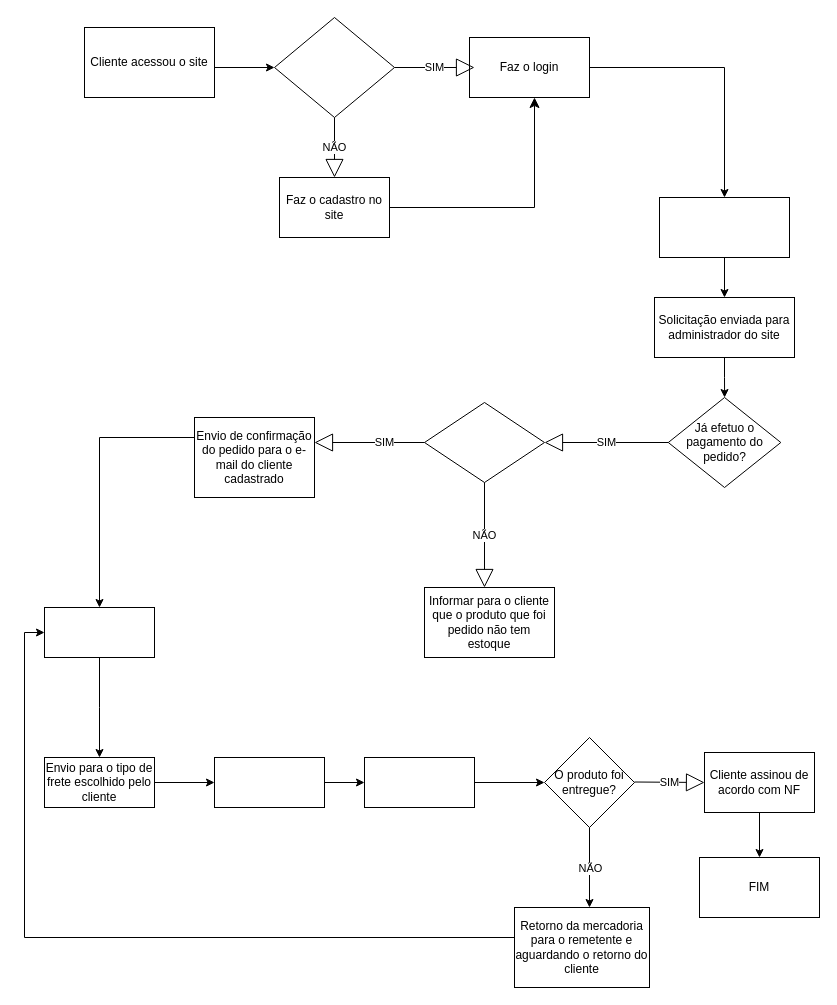
Image size: 837x1005. Some labels were removed from this diagram. Here are the shapes that lost their labels. From the top down, the centre of each, then its label:
At (334,67): "Cliente possui cadastro no site?".
At (724,227): "Cliente faz finalização do pedido no site".
At (484,442): "Verifica se produto que foi pedido tem estoque".
At (99,632): "Preparação da mercadoria".
At (269,782): "Entregue aos correios".
At (419,782): "Produto em trânsito para o destinatário".
